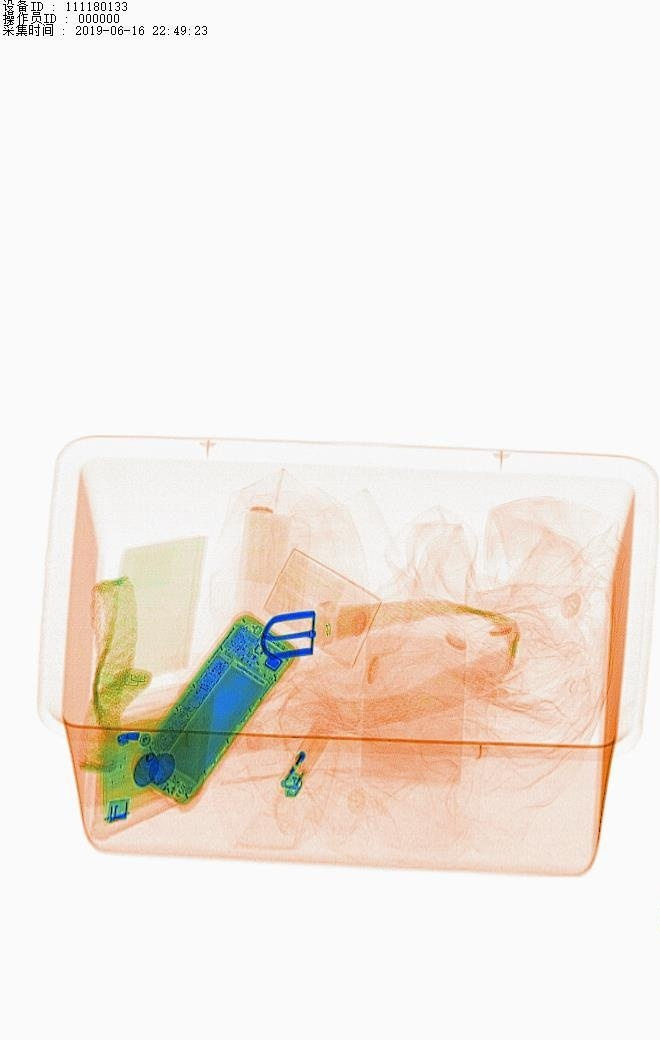NonmetallicFire: (265, 706, 332, 806)
